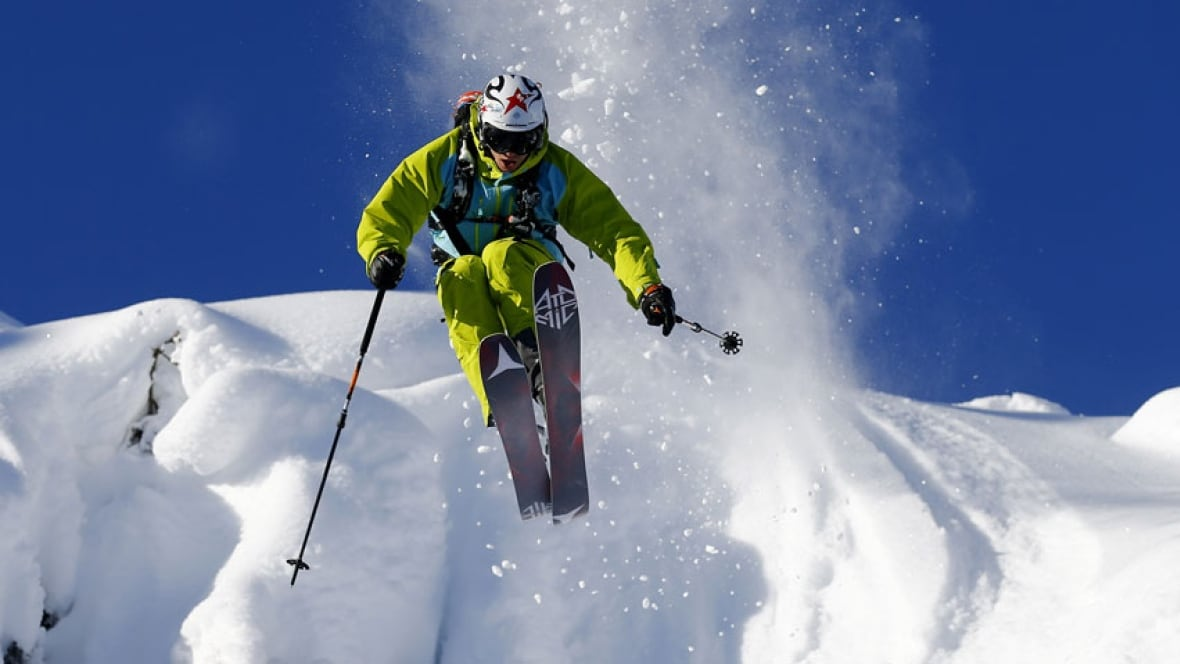skier: (336, 63, 674, 529)
